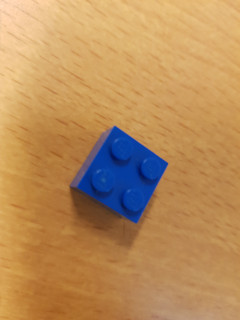2x2 blue: (67, 123, 172, 228)
